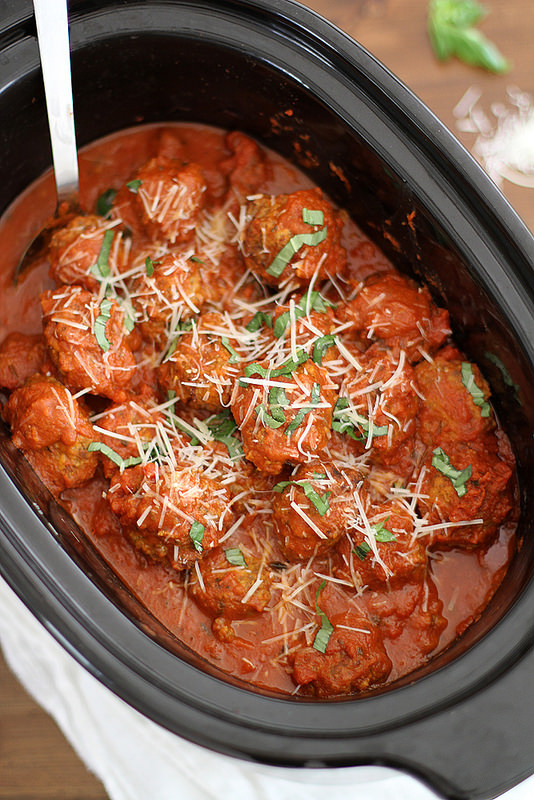meatballs: (15, 170, 458, 585)
